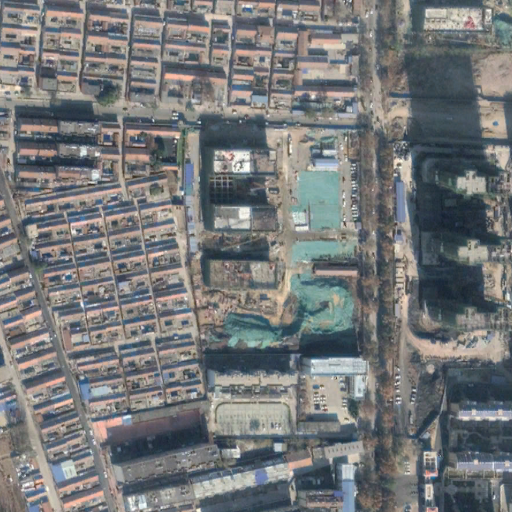cw: (192, 128, 360, 357)
